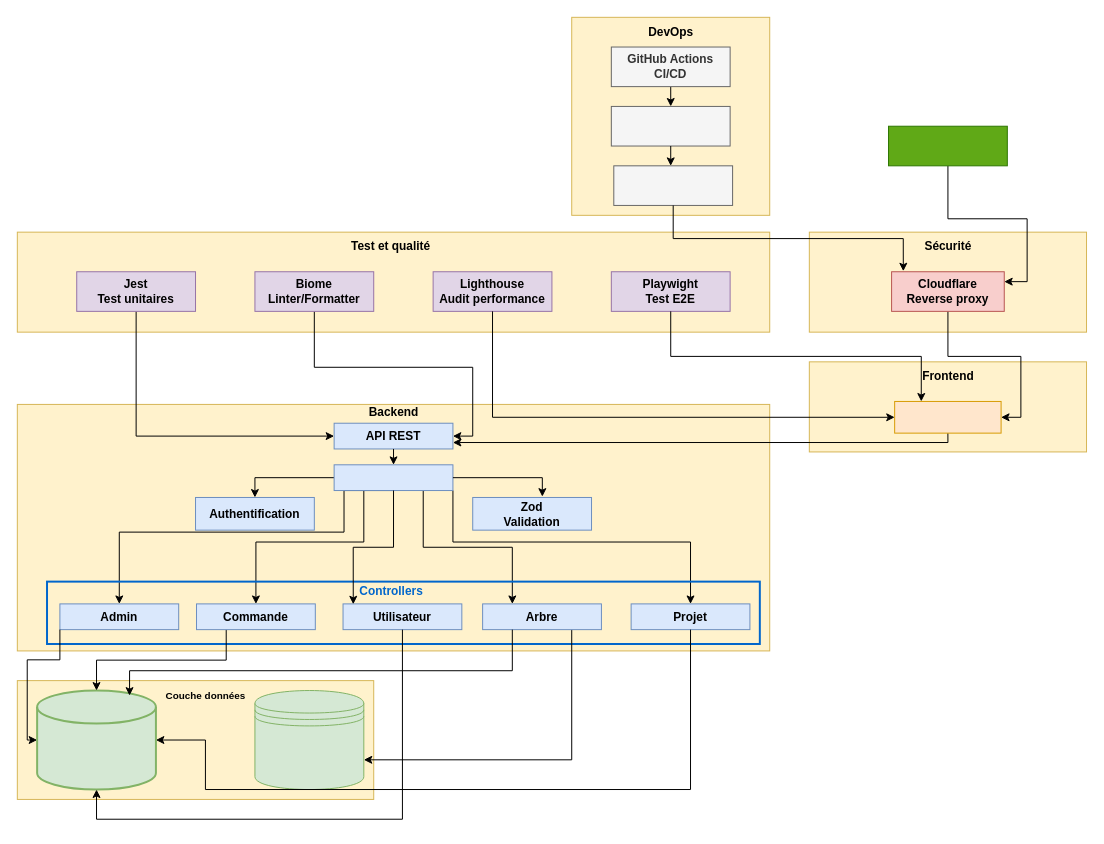
Image size: 1104x844. Some labels were removed from this diagram. Each missing label, with the box of its shape:
DigitalOcean Hébergement: (613, 165, 733, 205)
Docker Conteneurisation: (610, 105, 730, 146)
Middleware: (333, 464, 453, 491)
Navigateur: (888, 125, 1007, 166)
PostgreSQL Base de données: (36, 689, 156, 790)
React: (894, 400, 1001, 433)
Stockage fichiers Images des arbres: (254, 690, 364, 790)
